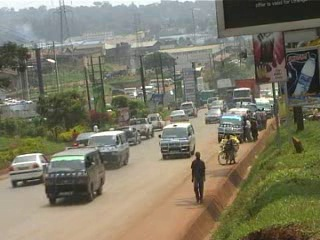Car: (8, 150, 53, 189), (69, 129, 99, 151), (115, 124, 142, 145), (201, 106, 225, 125), (166, 107, 189, 124), (206, 97, 227, 112)
